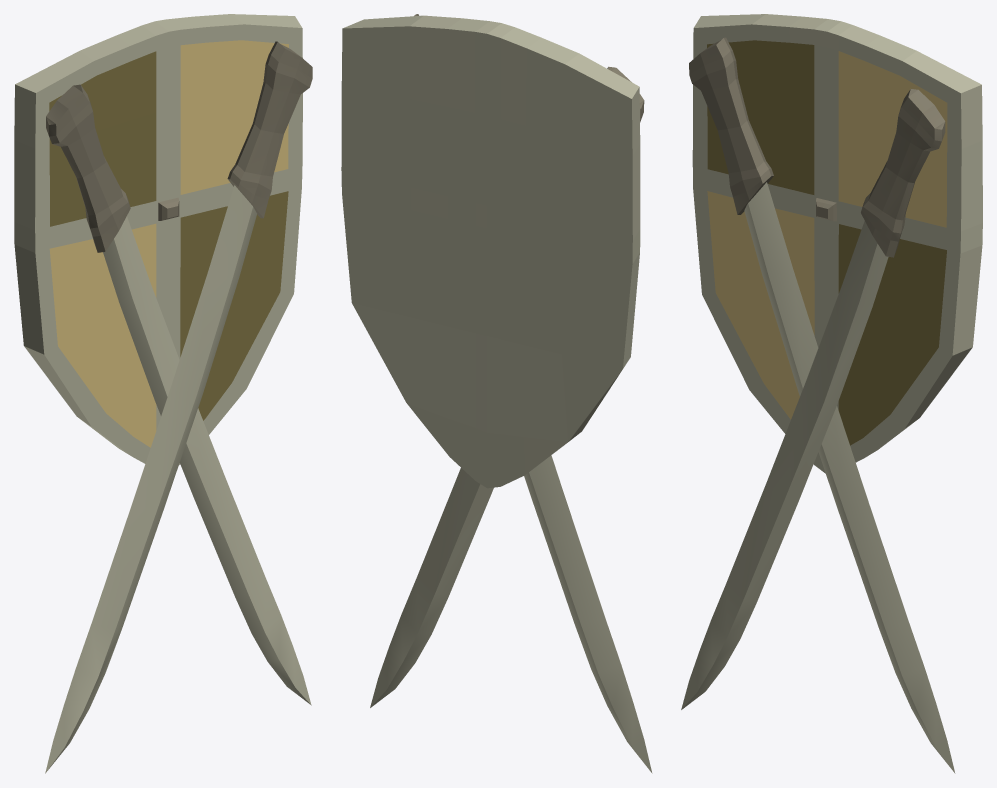
File: Comb_8_.fbx
3 renders of one model, left to right at view 1: azimuth 30°, elevation 25°; view 2: azimuth 150°, elevation 25°; view 3: azimuth 330°, elevation 25°, orthographic. The views are drawn at different scales.
Parts seen in each view (by area): view 1: Shield 1.008, Sword 1.012; view 2: Shield 1.008, Sword 1.012; view 3: Shield 1.008, Sword 1.012.
Boxes of the visible parts, box(x1,y1,x2,y2) form: Shield 1.008: box(14, 14, 302, 464); Sword 1.012: box(45, 41, 312, 773); Shield 1.008: box(341, 15, 640, 488); Sword 1.012: box(370, 14, 652, 773); Shield 1.008: box(692, 14, 982, 473); Sword 1.012: box(681, 37, 955, 773).
Bounding box in the file's own units: 57.68 × 137 × 11.74.
